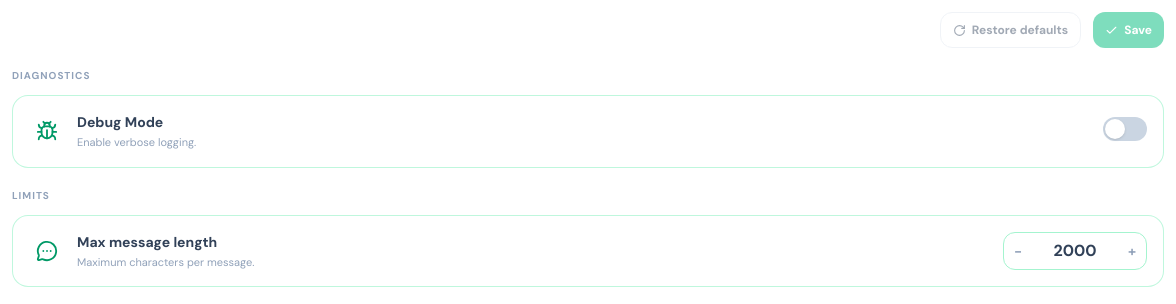
Test case: SettingsTab — unsaved changes indicator › shows unsaved changes count after editing a toggle
The width and height of the screenshot is (1176, 304).
Click the switch at (1125, 129), box top-left (1103, 117), bottom-right (1147, 141)
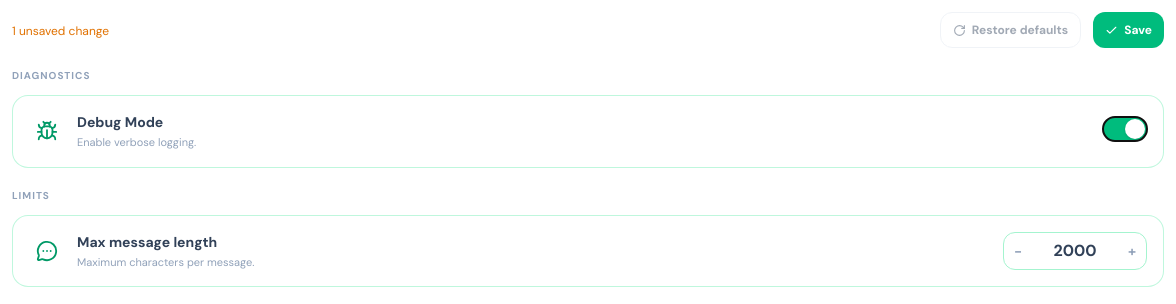
expect the text "1 unsaved change" is shown: met, box top-left (12, 23), bottom-right (109, 39)
